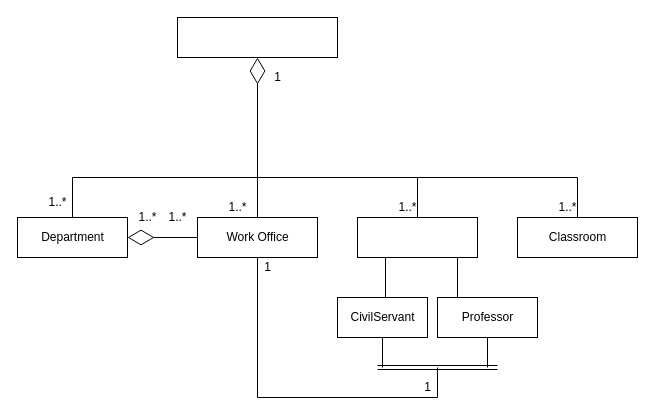
Some shapes in this 655 by 420 pixel diagram are drawn without their labels. Here are the shapes that lost their labels. From the top down, the box of each, then its label:
(176, 16, 338, 58): University
(356, 216, 478, 258): Employee
